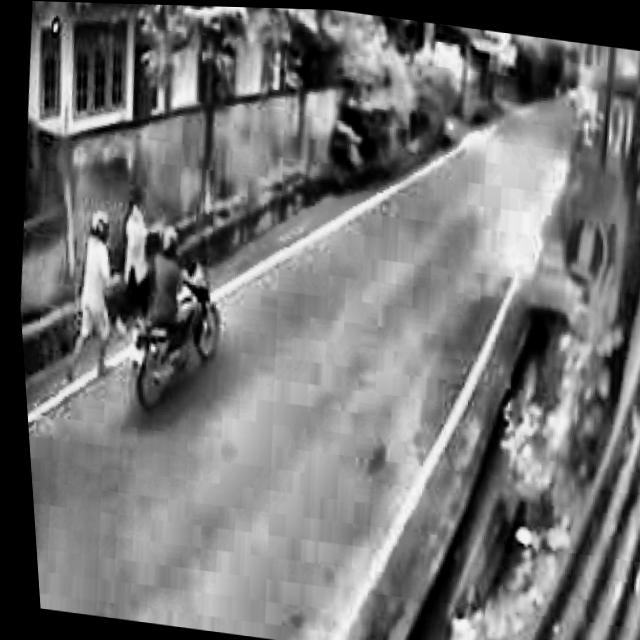robbery: (45, 175, 237, 421)
